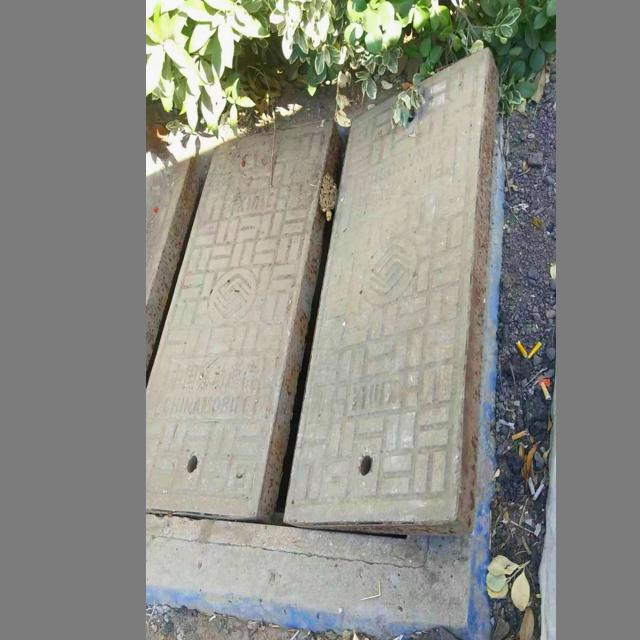uncovered: (146, 40, 500, 545)
